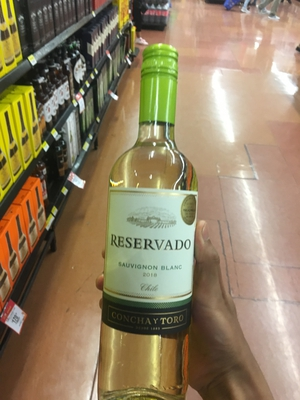reservado sauvignon blanc: (97, 50, 208, 400)
